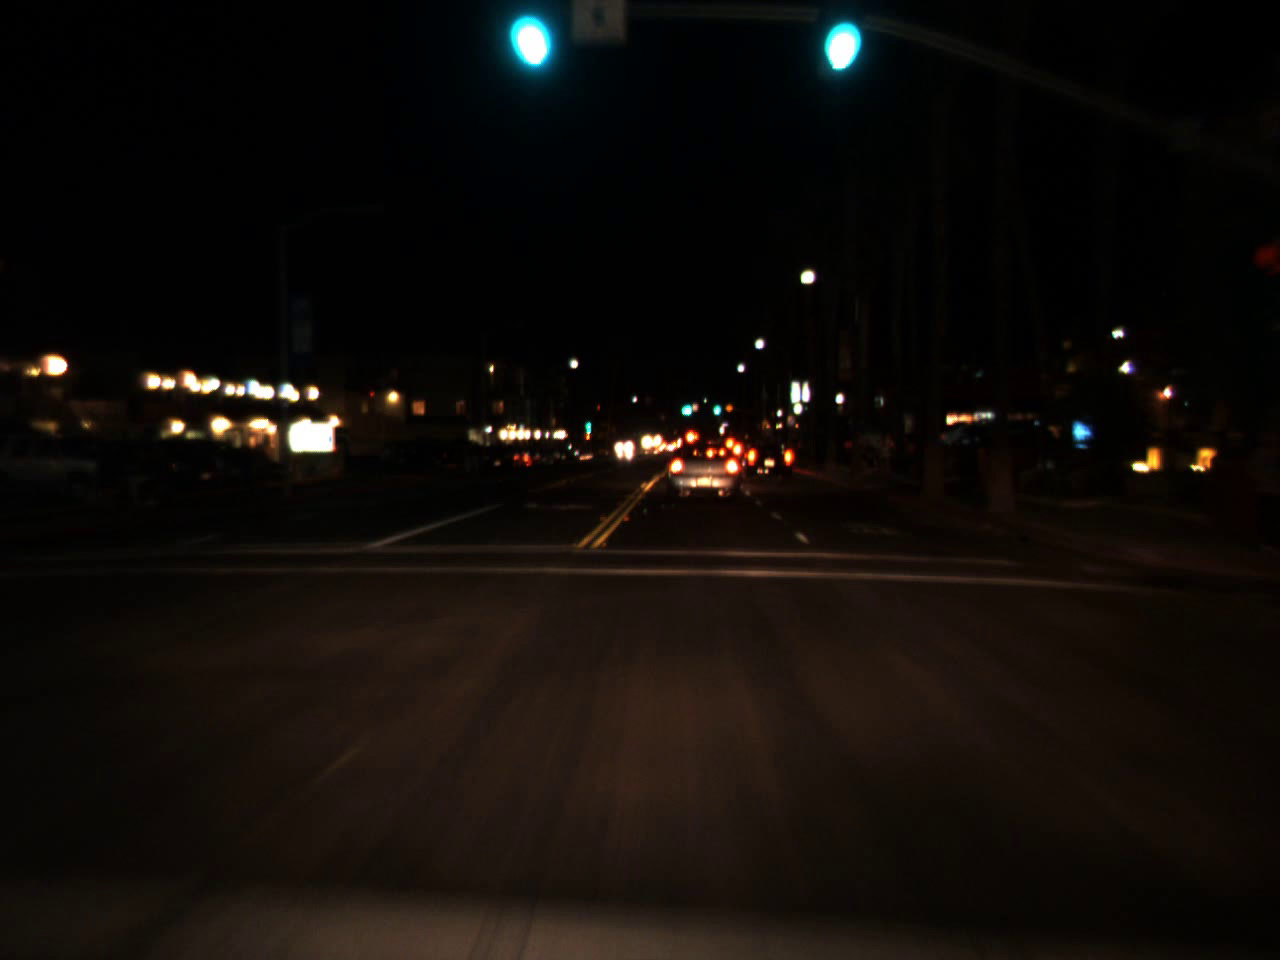go: (817, 0, 860, 78), (512, 0, 551, 77), (677, 394, 695, 418), (583, 407, 592, 437), (711, 397, 721, 415)
